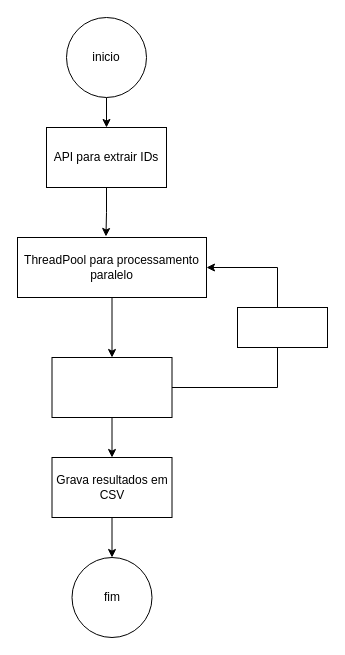
Image size: 345x655. Some labels were removed from this diagram. The centre of each missing label's shape, as x and y in pixels:
"API para extrair infos dos produtos" belongs at point (111, 387).
"Itera para cada ID" belongs at point (282, 327).
